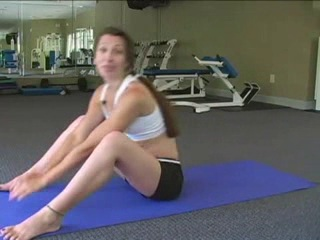sit_up: (0, 35, 178, 240)
